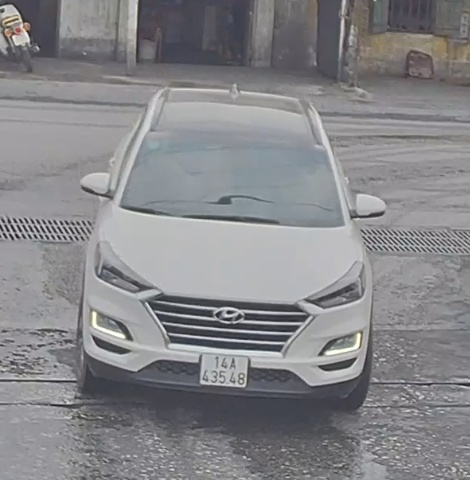vehicle plate: (200, 349, 254, 391)
